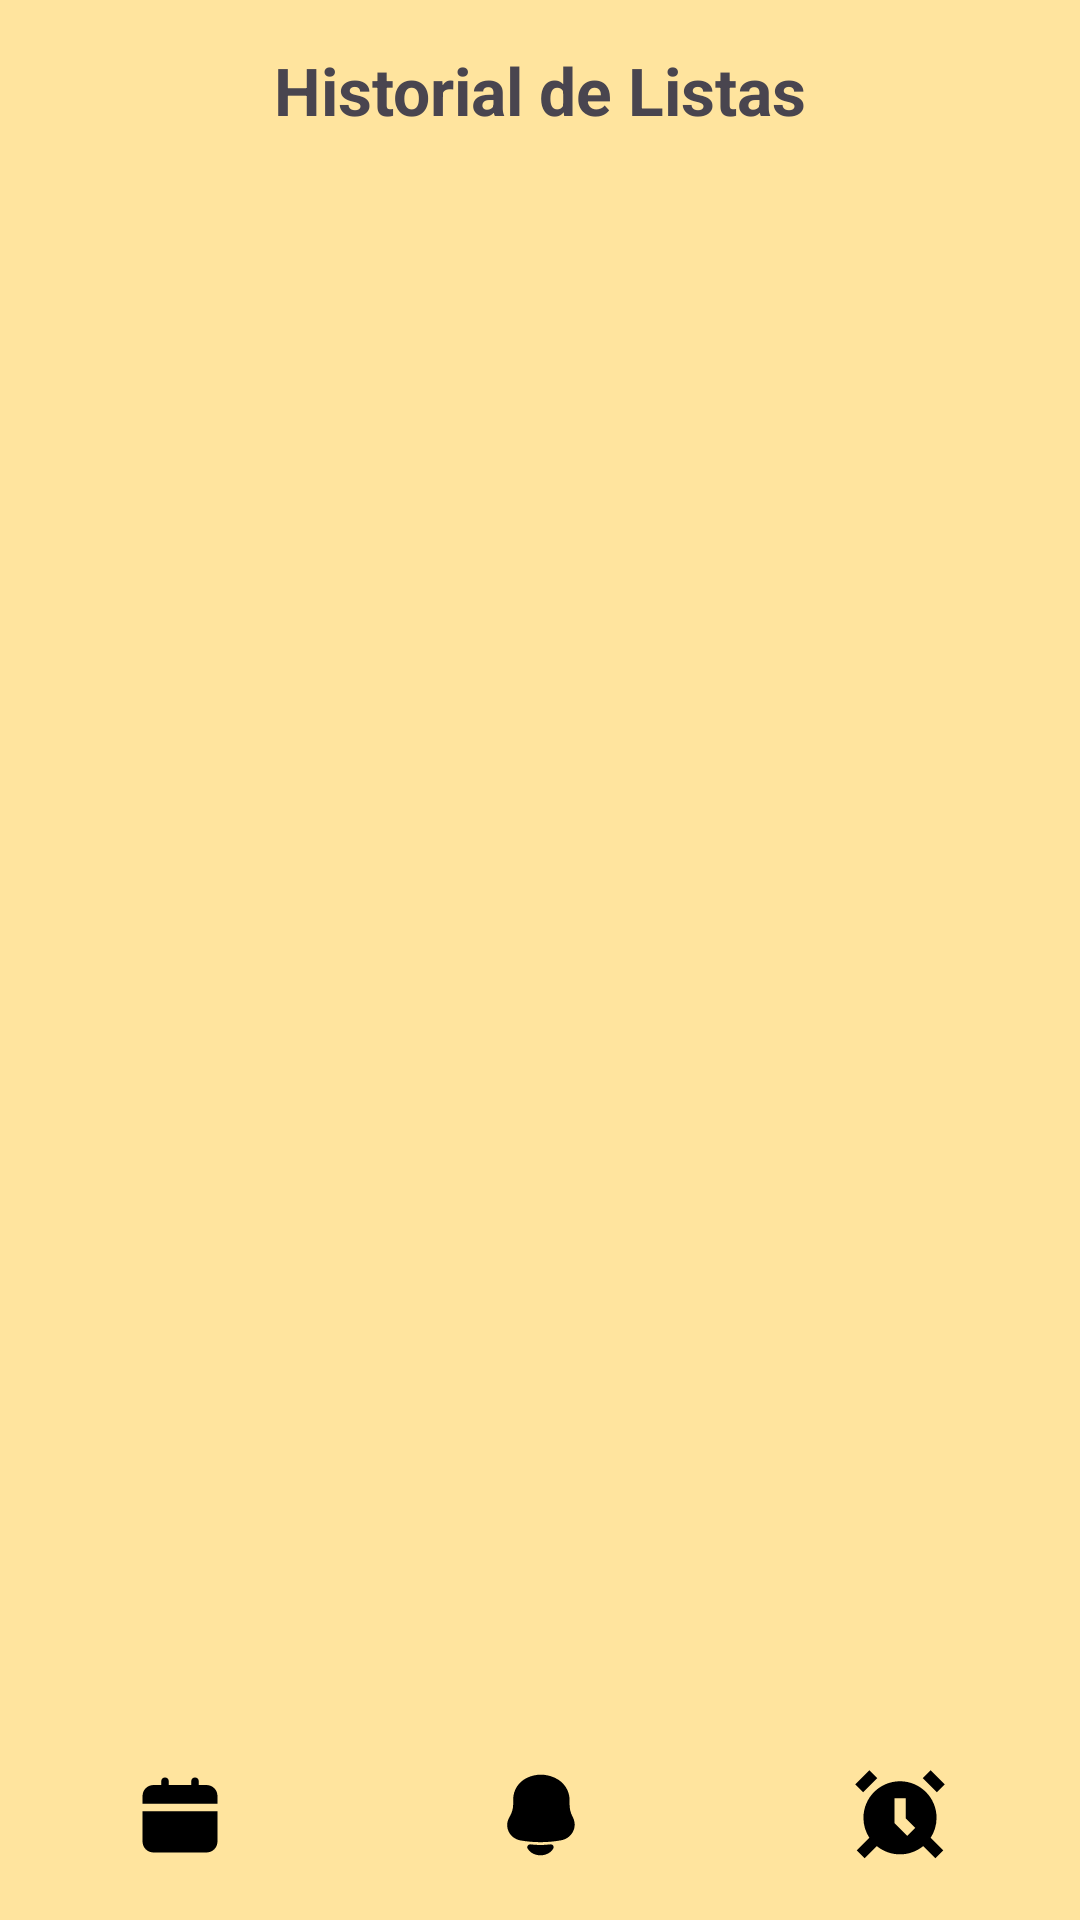

Icon bounding boxes for this 1080px x 1920px phone screenshot, format (x1, y1, x2, y2):
Ir a notificaciones: (507, 1774, 575, 1856)
Ir al calendario: (142, 1777, 218, 1853)
